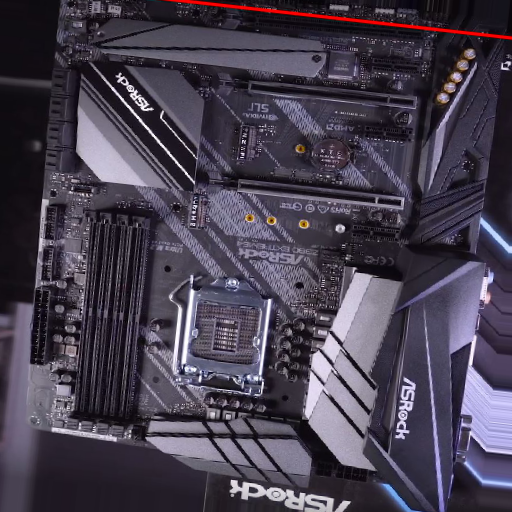CPU: (178, 278, 274, 390)
GPU: (204, 167, 408, 212), (216, 70, 418, 113)
MOTHERBOARD: (15, 6, 499, 494)
RAM: (65, 208, 159, 439)
SSD: (186, 193, 211, 229), (237, 123, 260, 160)
